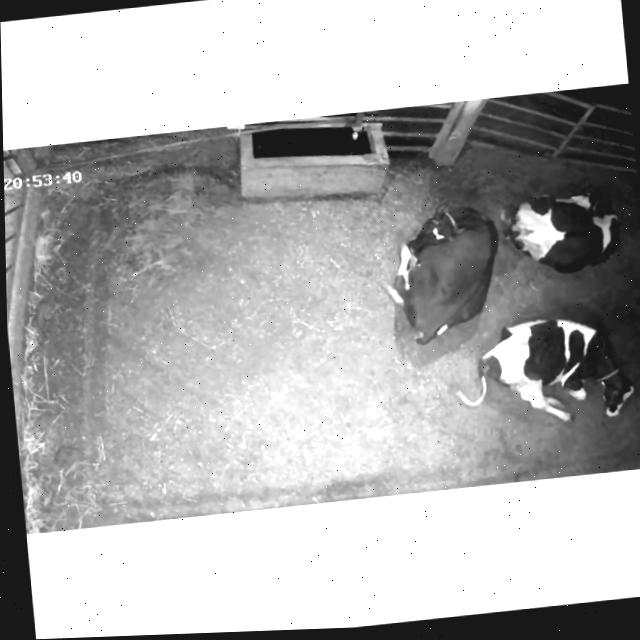lay: (370, 181, 522, 351), (465, 297, 640, 438), (501, 158, 624, 282)
